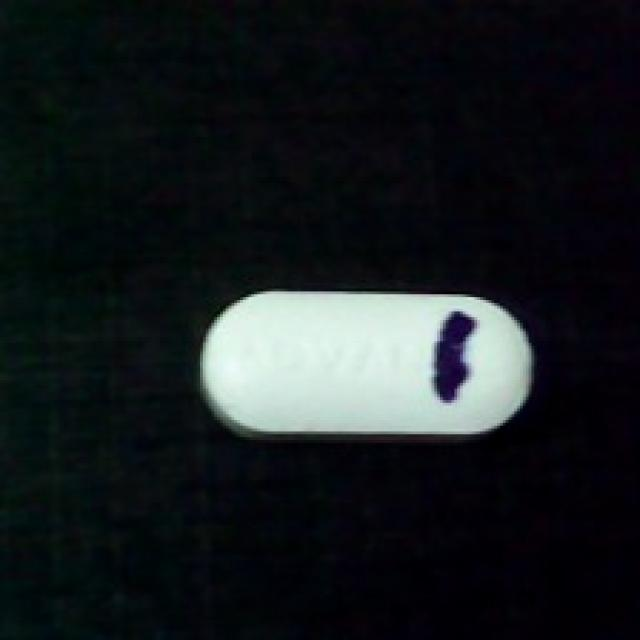defected: (191, 283, 546, 449)
